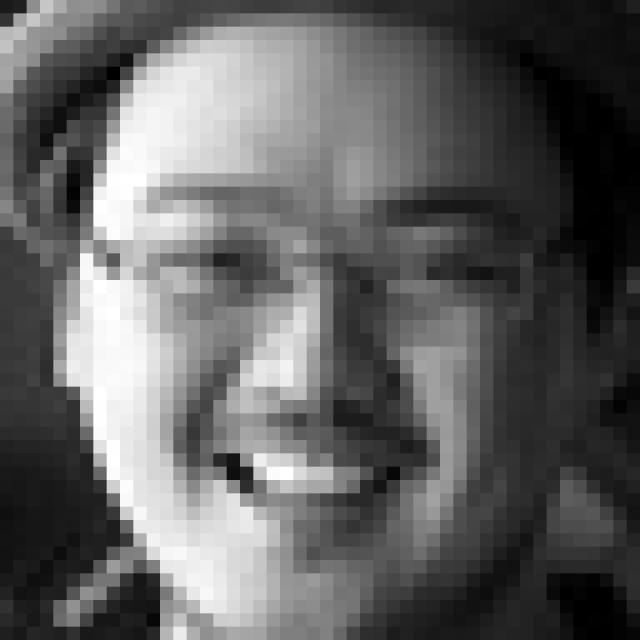happy: (132, 164, 536, 573)
